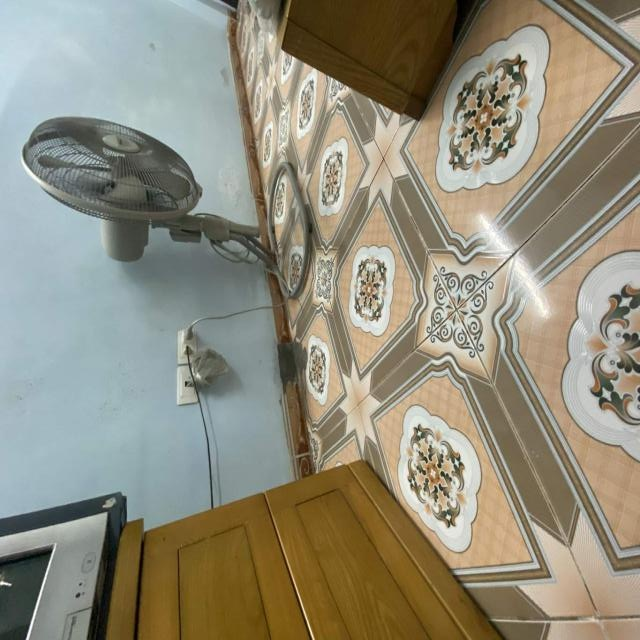outlet: (177, 366, 199, 406), (177, 330, 197, 365)
